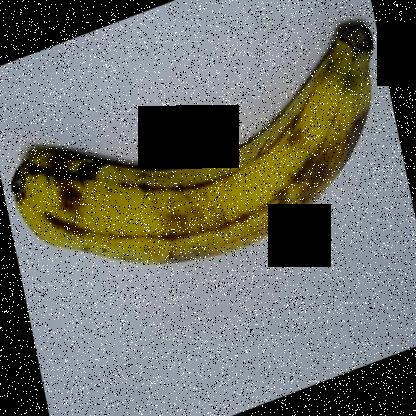overripe: (4, 13, 384, 272)
